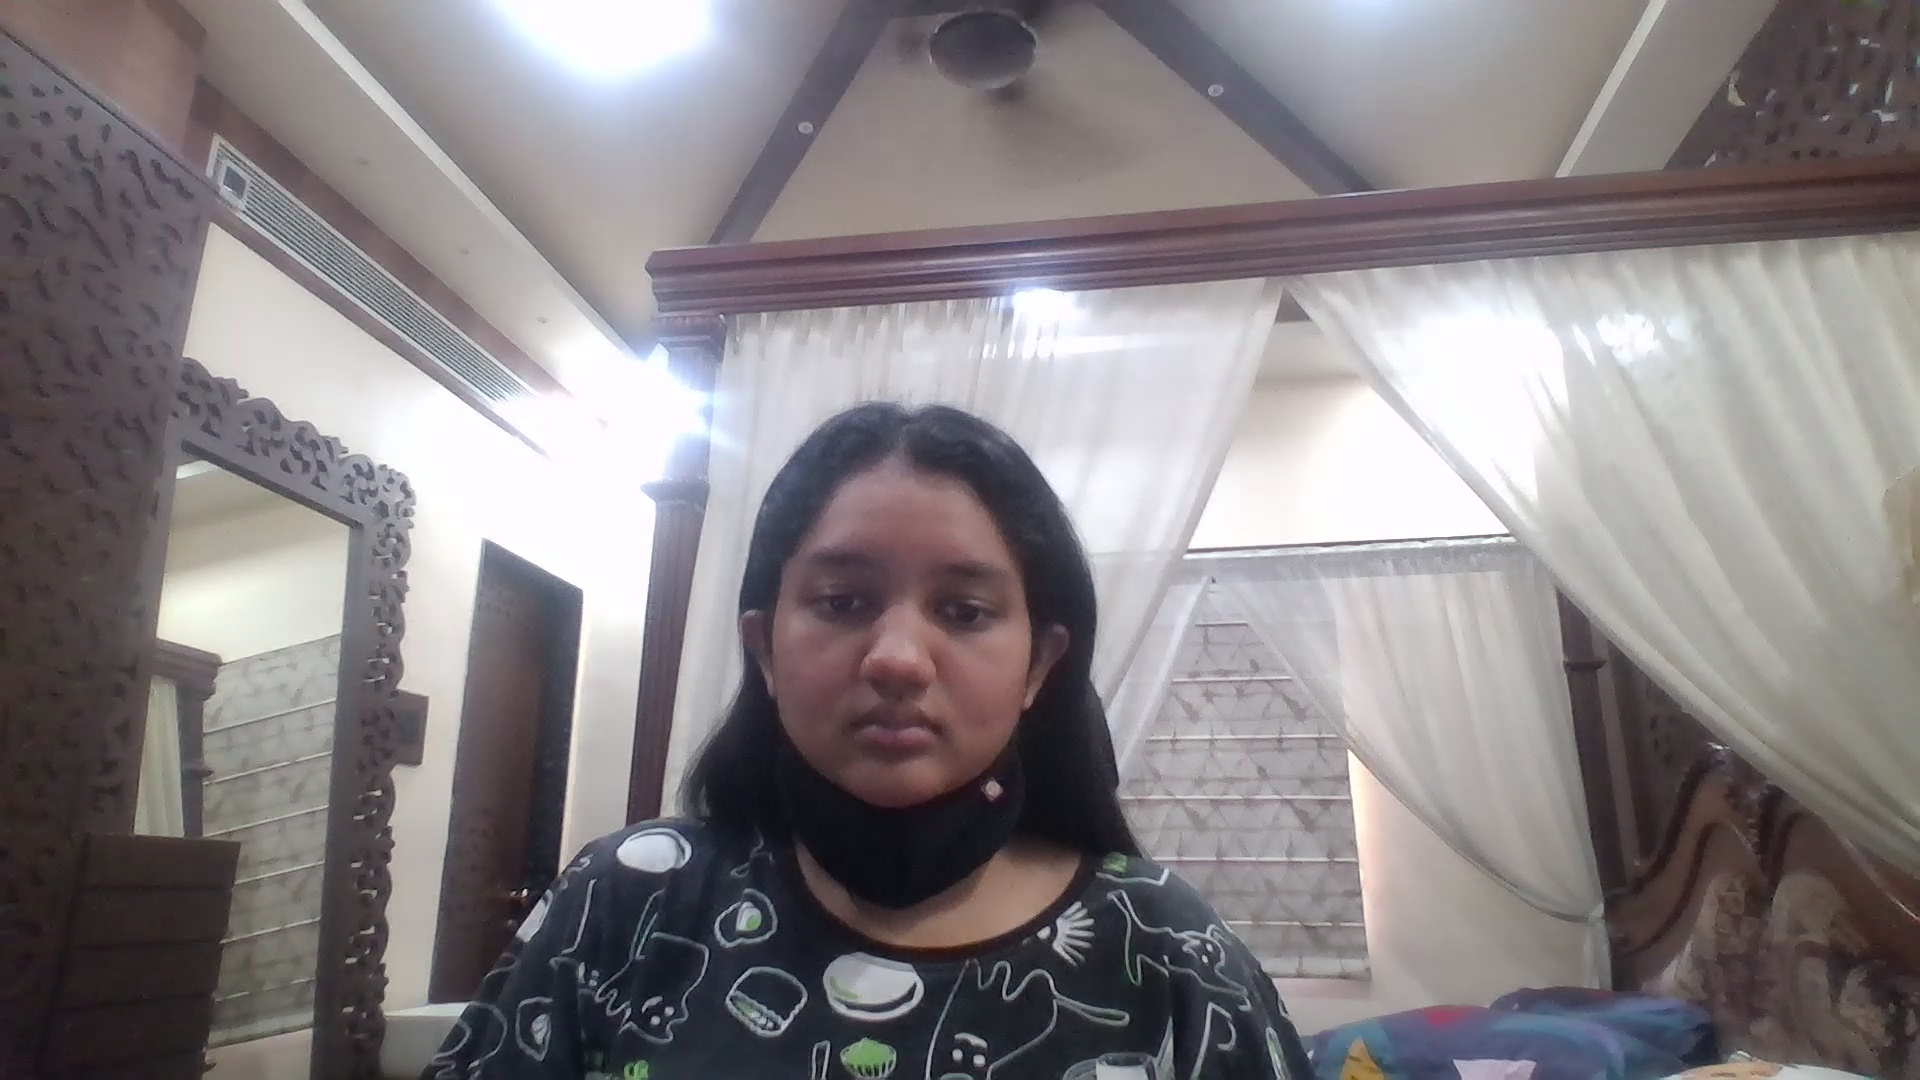No Mask: (776, 628, 1031, 833)
